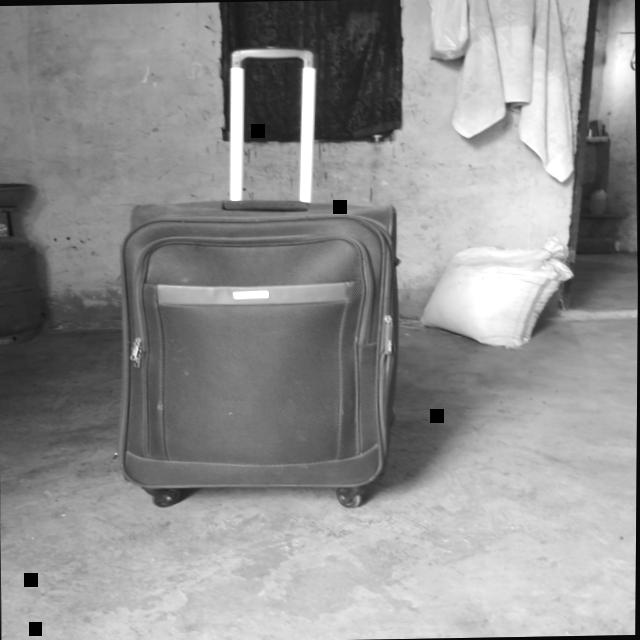luggage: (116, 199, 401, 508)
